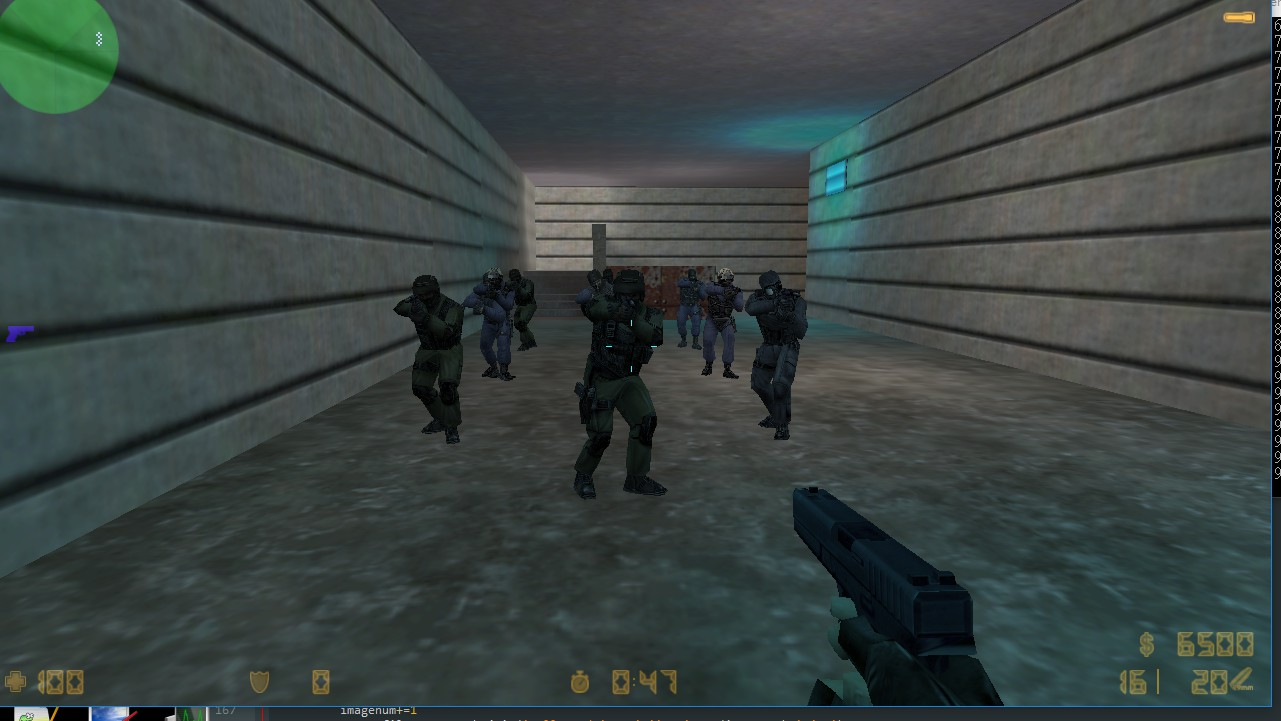person: (583, 263, 667, 502), (393, 268, 471, 451), (744, 264, 805, 436), (463, 268, 522, 381), (700, 263, 745, 377), (672, 262, 710, 359)
